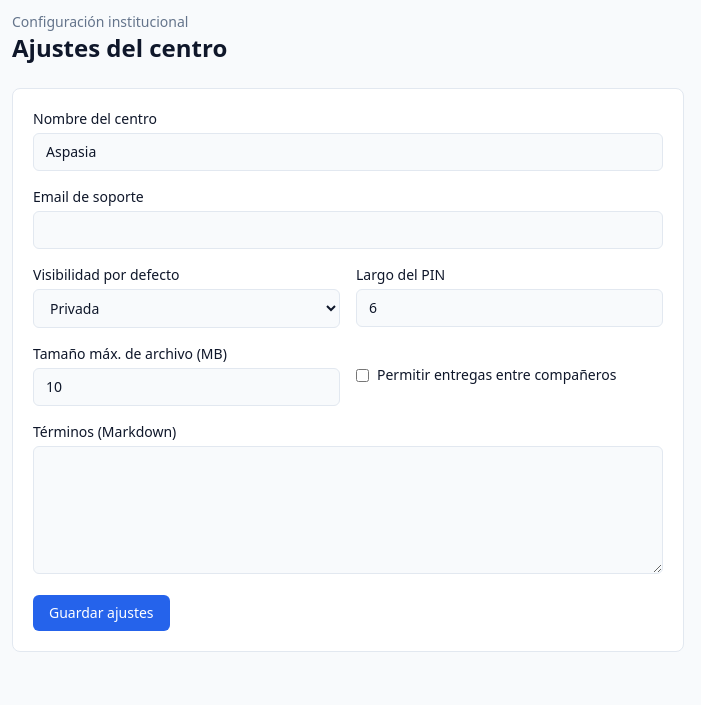
Test: Fase C frontend › carga y guarda los ajustes del centro
The width and height of the screenshot is (701, 705).
Replace the text in the field labelled "Nombre del centro" with "IES Aspasia" at x=348, y=152, box [33, 133, 663, 171]
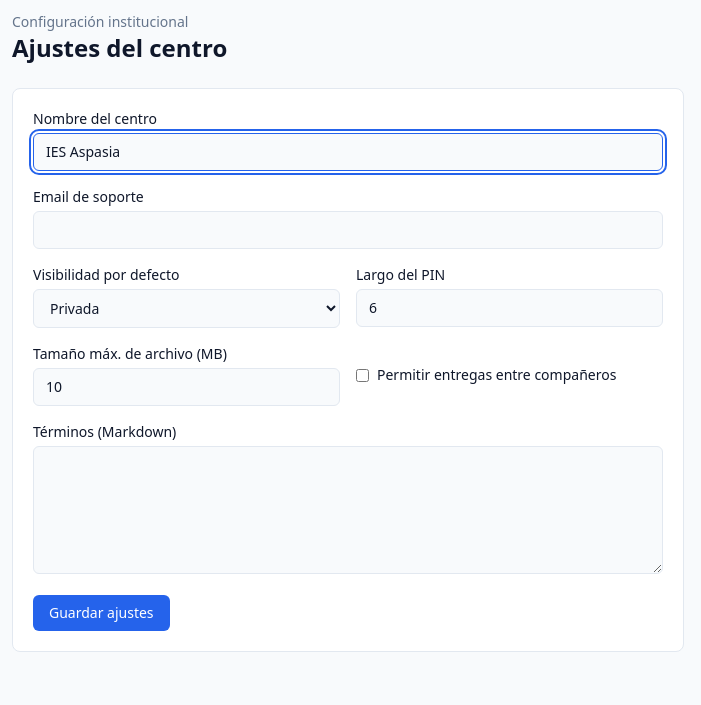
Click the button "Guardar ajustes" at x=101, y=613, box [33, 595, 170, 631]
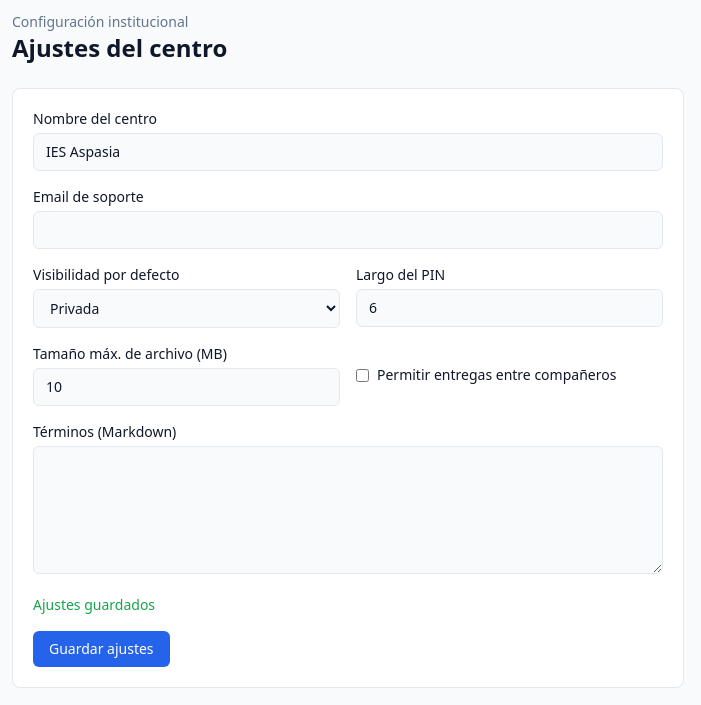
Result: the text "Ajustes guardados" is shown at [33, 595, 155, 614]
